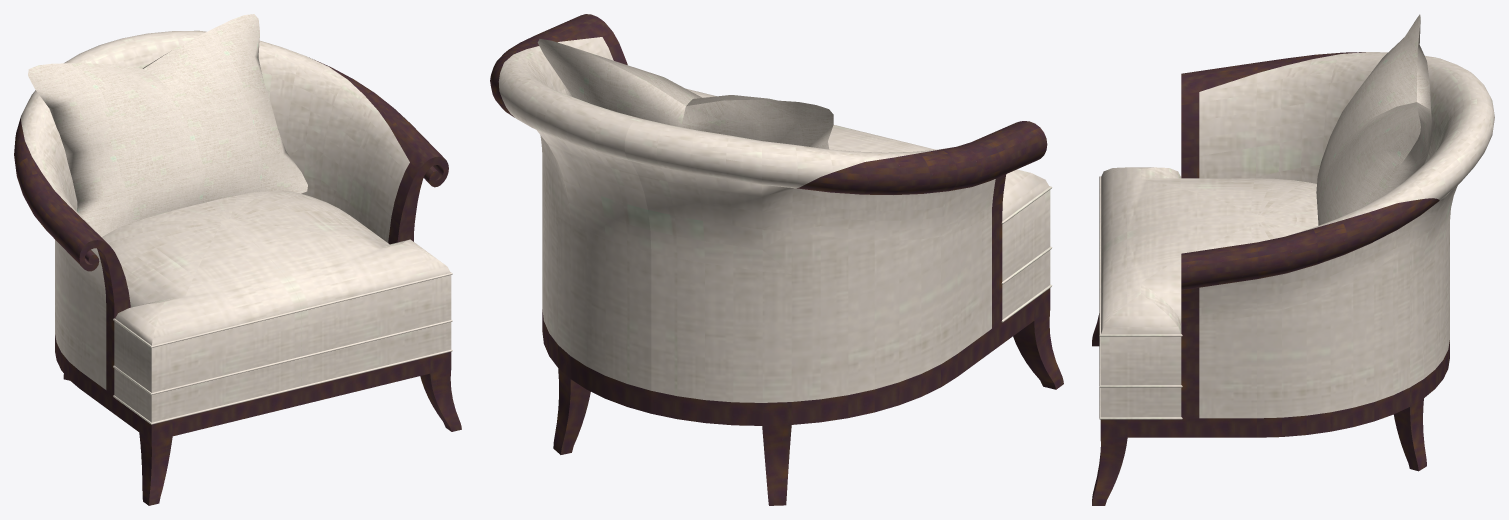
The model's file is Master Chair-001.obj.
3 renders of one model, left to right at view 1: azimuth 30°, elevation 25°; view 2: azimuth 150°, elevation 25°; view 3: azimuth 270°, elevation 25°, orthographic. The views are drawn at different scales.
Visible parts, largest first — view 1: Mesh1 Group1 Model, Mesh18 Group13 ___13_2 Model, Mesh4 Group4 ___13_1 Model, Mesh8 Group5 ___13_1 Model, Mesh14 Group12 ___13_2 Model, Mesh13 Group11 ___13_2 Model, Mesh3 Group3 ___13_1 Model, Mesh12 Group10 ___13_2 Model, Mesh2 Group2 ___13_1 Model, Mesh11 ___2_2 Model, Mesh10 ___2_1 ___13_1 Model, Mesh16 Group15 Group13 ___13_2 Model (+2 smaller); view 2: Mesh14 Group12 ___13_2 Model, Mesh4 Group4 ___13_1 Model, Mesh1 Group1 Model, Mesh12 Group10 ___13_2 Model, Mesh18 Group13 ___13_2 Model, Mesh19 Group17 ___13_2 Model, Mesh11 ___2_2 Model, Mesh2 Group2 ___13_1 Model, Mesh9 Group9 ___13_1 Model, Mesh13 Group11 ___13_2 Model; view 3: Mesh4 Group4 ___13_1 Model, Mesh14 Group12 ___13_2 Model, Mesh8 Group5 ___13_1 Model, Mesh1 Group1 Model, Mesh18 Group13 ___13_2 Model, Mesh2 Group2 ___13_1 Model, Mesh3 Group3 ___13_1 Model, Mesh10 ___2_1 ___13_1 Model, Mesh9 Group9 ___13_1 Model.
Part boxes in pixels (box(x1,y1,x2,y2)): Mesh1 Group1 Model: box(28, 14, 307, 237); Mesh18 Group13 ___13_2 Model: box(102, 204, 301, 392); Mesh4 Group4 ___13_1 Model: box(125, 30, 448, 244); Mesh8 Group5 ___13_1 Model: box(201, 190, 451, 356); Mesh14 Group12 ___13_2 Model: box(14, 38, 140, 395); Mesh13 Group11 ___13_2 Model: box(114, 358, 301, 422); Mesh3 Group3 ___13_1 Model: box(301, 322, 451, 385); Mesh12 Group10 ___13_2 Model: box(55, 335, 301, 436); Mesh2 Group2 ___13_1 Model: box(301, 357, 430, 404); Mesh11 ___2_2 Model: box(139, 416, 172, 505); Mesh10 ___2_1 ___13_1 Model: box(420, 352, 461, 431); Mesh16 Group15 Group13 ___13_2 Model: box(113, 309, 301, 347); Mesh14 Group12 ___13_2 Model: box(624, 118, 1047, 402); Mesh4 Group4 ___13_1 Model: box(490, 14, 651, 390); Mesh1 Group1 Model: box(537, 39, 833, 149); Mesh12 Group10 ___13_2 Model: box(651, 300, 1034, 425); Mesh18 Group13 ___13_2 Model: box(828, 127, 1050, 281); Mesh19 Group17 ___13_2 Model: box(762, 402, 791, 505); Mesh11 ___2_2 Model: box(1013, 288, 1063, 389); Mesh2 Group2 ___13_1 Model: box(542, 309, 651, 413); Mesh9 Group9 ___13_1 Model: box(553, 345, 590, 454); Mesh13 Group11 ___13_2 Model: box(1002, 250, 1050, 319); Mesh4 Group4 ___13_1 Model: box(1181, 101, 1494, 418); Mesh14 Group12 ___13_2 Model: box(1181, 52, 1493, 183); Mesh8 Group5 ___13_1 Model: box(1100, 218, 1318, 385); Mesh1 Group1 Model: box(1316, 14, 1432, 225); Mesh18 Group13 ___13_2 Model: box(1101, 167, 1318, 254); Mesh2 Group2 ___13_1 Model: box(1127, 340, 1449, 437); Mesh3 Group3 ___13_1 Model: box(1100, 387, 1181, 417); Mesh10 ___2_1 ___13_1 Model: box(1092, 419, 1127, 505); Mesh9 Group9 ___13_1 Model: box(1393, 379, 1426, 471).
Size of the model in its own units: 106 by 87.81 by 93.
Materials: 2 (2 with a texture image).
